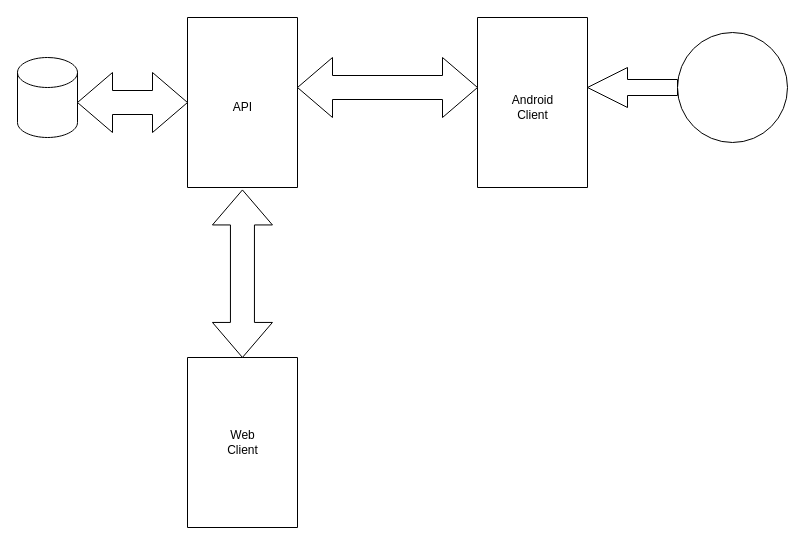
The diagram is 805 pixels wide and 545 high, and some of its shapes have lost their labels. Each missing label, with the centre of its shape:
BBDD: the point at 47,97
Smartwatch: the point at 732,87
